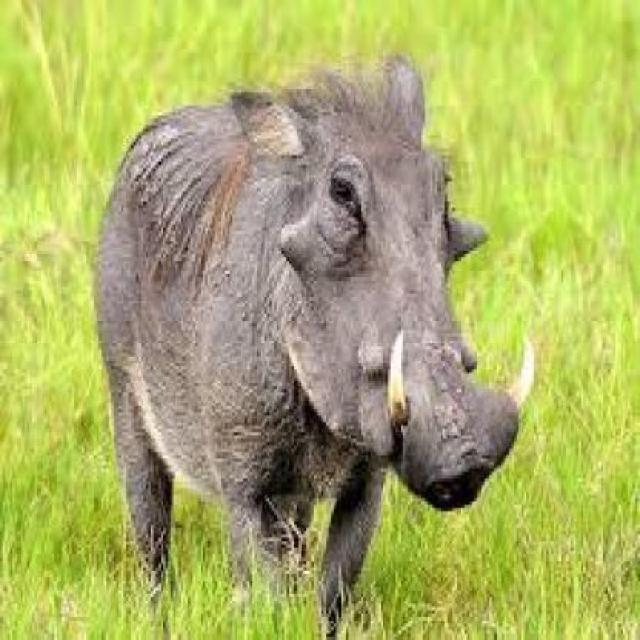wildboar: (78, 35, 544, 640)
